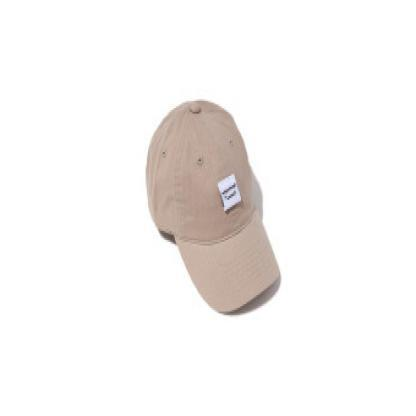cap: (142, 92, 285, 319)
